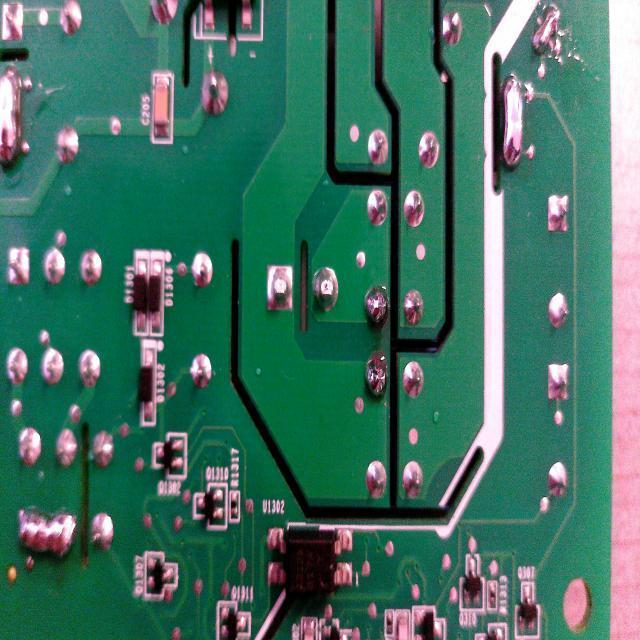Soldering shorted: (494, 64, 532, 189), (12, 501, 78, 567), (526, 3, 570, 66), (0, 66, 27, 167)
